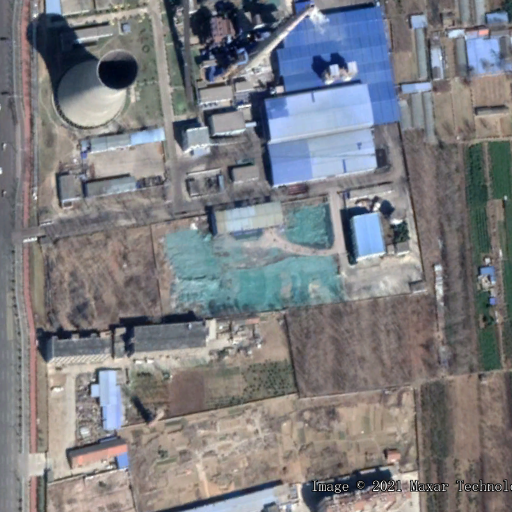cw: (155, 197, 339, 315)
